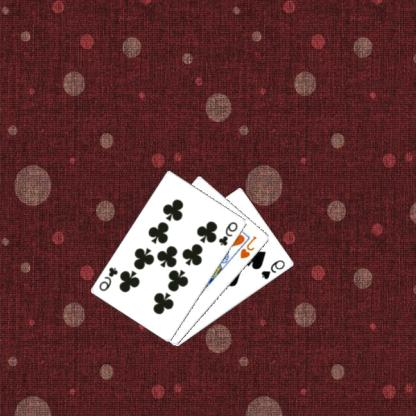9C: (98, 264, 122, 293), (218, 219, 242, 247)
9S: (261, 256, 288, 280)
JH: (239, 233, 260, 260)
